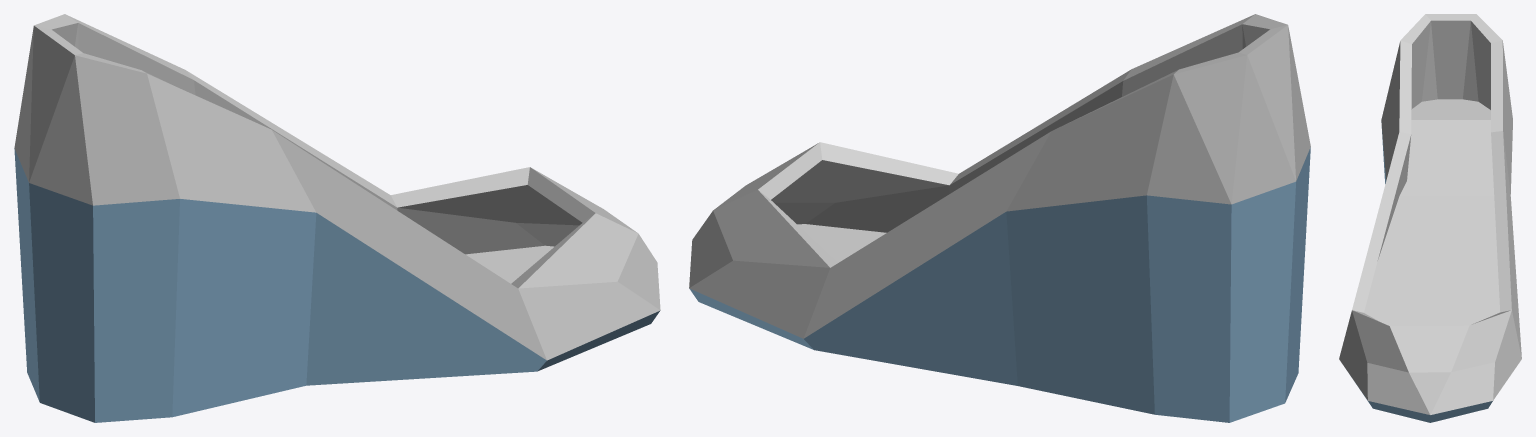
Rendered from wedge.fbx.
3 renders of one model, left to right at view 1: azimuth 30°, elevation 25°; view 2: azimuth 150°, elevation 25°; view 3: azimuth 270°, elevation 25°, orthographic. The views are drawn at different scales.
Visible parts, largest first — view 1: Heel.001; view 2: Heel.001; view 3: Heel.001.
Part boxes in pixels (x1,y1,x2,y2): Heel.001: [14, 14, 660, 422]; Heel.001: [689, 14, 1310, 422]; Heel.001: [1339, 14, 1521, 422].
Size of the model in its own units: 5.07 by 2.92 by 2.09.
